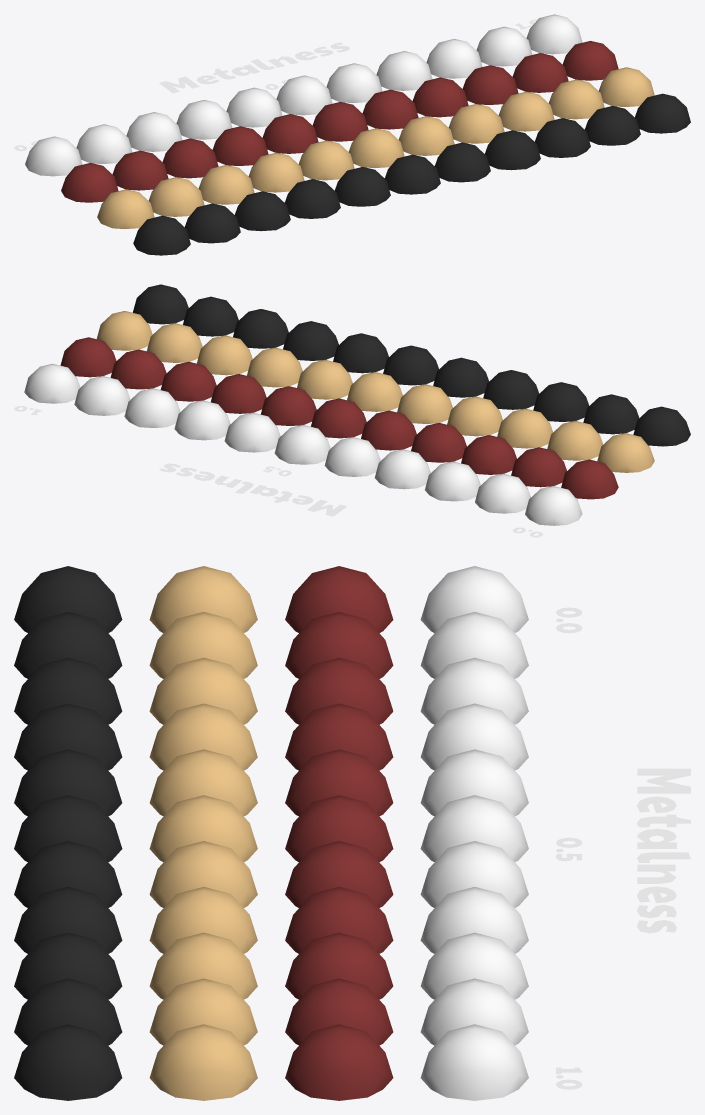
3 renders of one model, top to bottom at view 1: azimuth 30°, elevation 25°; view 2: azimuth 150°, elevation 25°; view 3: azimuth 270°, elevation 25°, orthographic. The views are drawn at different scales.
Visible parts, largest first — view 1: Metallic_NonMetallic, typeMesh_Metalness; view 2: Metallic_NonMetallic, typeMesh_Metalness; view 3: Metallic_NonMetallic, typeMesh_Metalness.
Part boxes in pixels (bbox=[...]): Metallic_NonMetallic: bbox=[25, 14, 690, 255]; typeMesh_Metalness: bbox=[159, 42, 349, 93]; Metallic_NonMetallic: bbox=[24, 284, 690, 525]; typeMesh_Metalness: bbox=[159, 463, 346, 516]; Metallic_NonMetallic: bbox=[14, 566, 528, 1100]; typeMesh_Metalness: bbox=[637, 768, 690, 933].
Size of the model in its own units: 2.2 by 0.1 by 1.25.
Materials: 5 (1 with a texture image).
